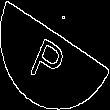P_NE: (33, 24, 77, 86)
